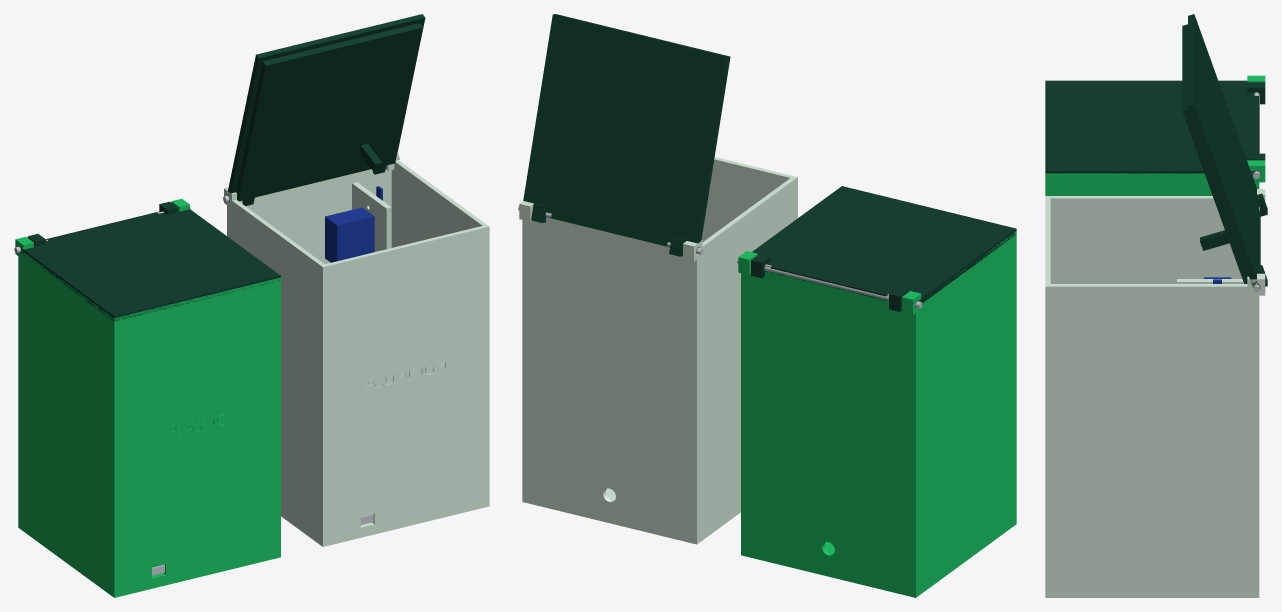
File: keep_it_green_bins.glb
3 views of the same model, side by side, from view 1: azimuth 30°, elevation 25°; view 2: azimuth 150°, elevation 25°; view 3: azimuth 270°, elevation 25° (orthographic). The views are drawn at different scales.
Parts seen in each view (by area): view 1: body_PLASTIC, body_ALUMINUM, lid_ALUMINUM, lid_PLASTIC, dummy_servo_ALUMINUM; view 2: body_PLASTIC, body_ALUMINUM, lid_ALUMINUM, lid_PLASTIC; view 3: body_ALUMINUM, lid_PLASTIC, lid_ALUMINUM, body_PLASTIC.
Boxes of the visible parts, x1,y1,x2,y2 form: body_PLASTIC: (15, 198, 280, 597); body_ALUMINUM: (224, 153, 489, 546); lid_ALUMINUM: (227, 14, 425, 205); lid_PLASTIC: (18, 201, 280, 321); dummy_servo_ALUMINUM: (325, 207, 374, 262); body_PLASTIC: (738, 231, 1016, 597); body_ALUMINUM: (519, 157, 797, 544); lid_ALUMINUM: (523, 14, 730, 256); lid_PLASTIC: (751, 186, 1016, 311); body_ALUMINUM: (1045, 189, 1265, 597); lid_PLASTIC: (1045, 80, 1265, 175); lid_ALUMINUM: (1182, 14, 1267, 288); body_PLASTIC: (1045, 75, 1265, 195).
Size of the model in its own units: 218 by 242 by 98.79.
